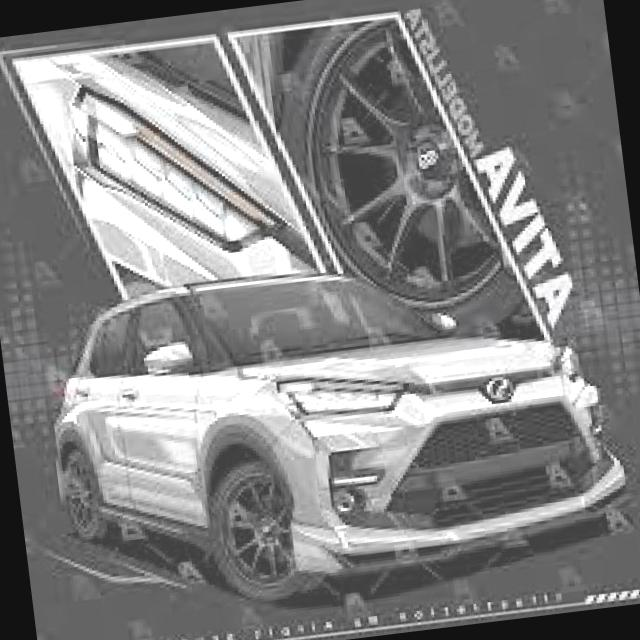PeroduaAtiva: (33, 230, 638, 626)
